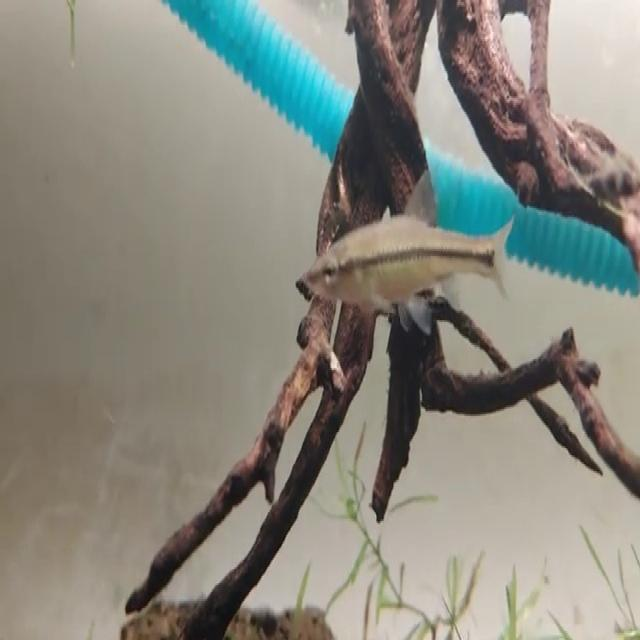Cakil Baligi: (295, 208, 515, 320)
